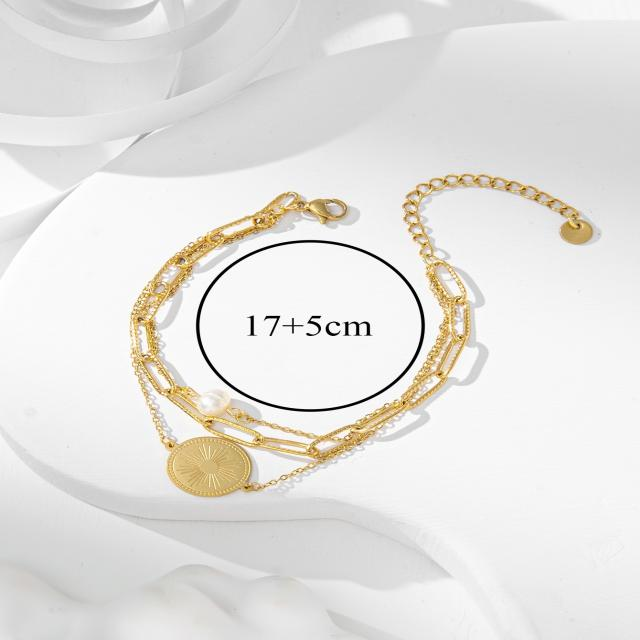bracelet: (35, 148, 640, 498)
